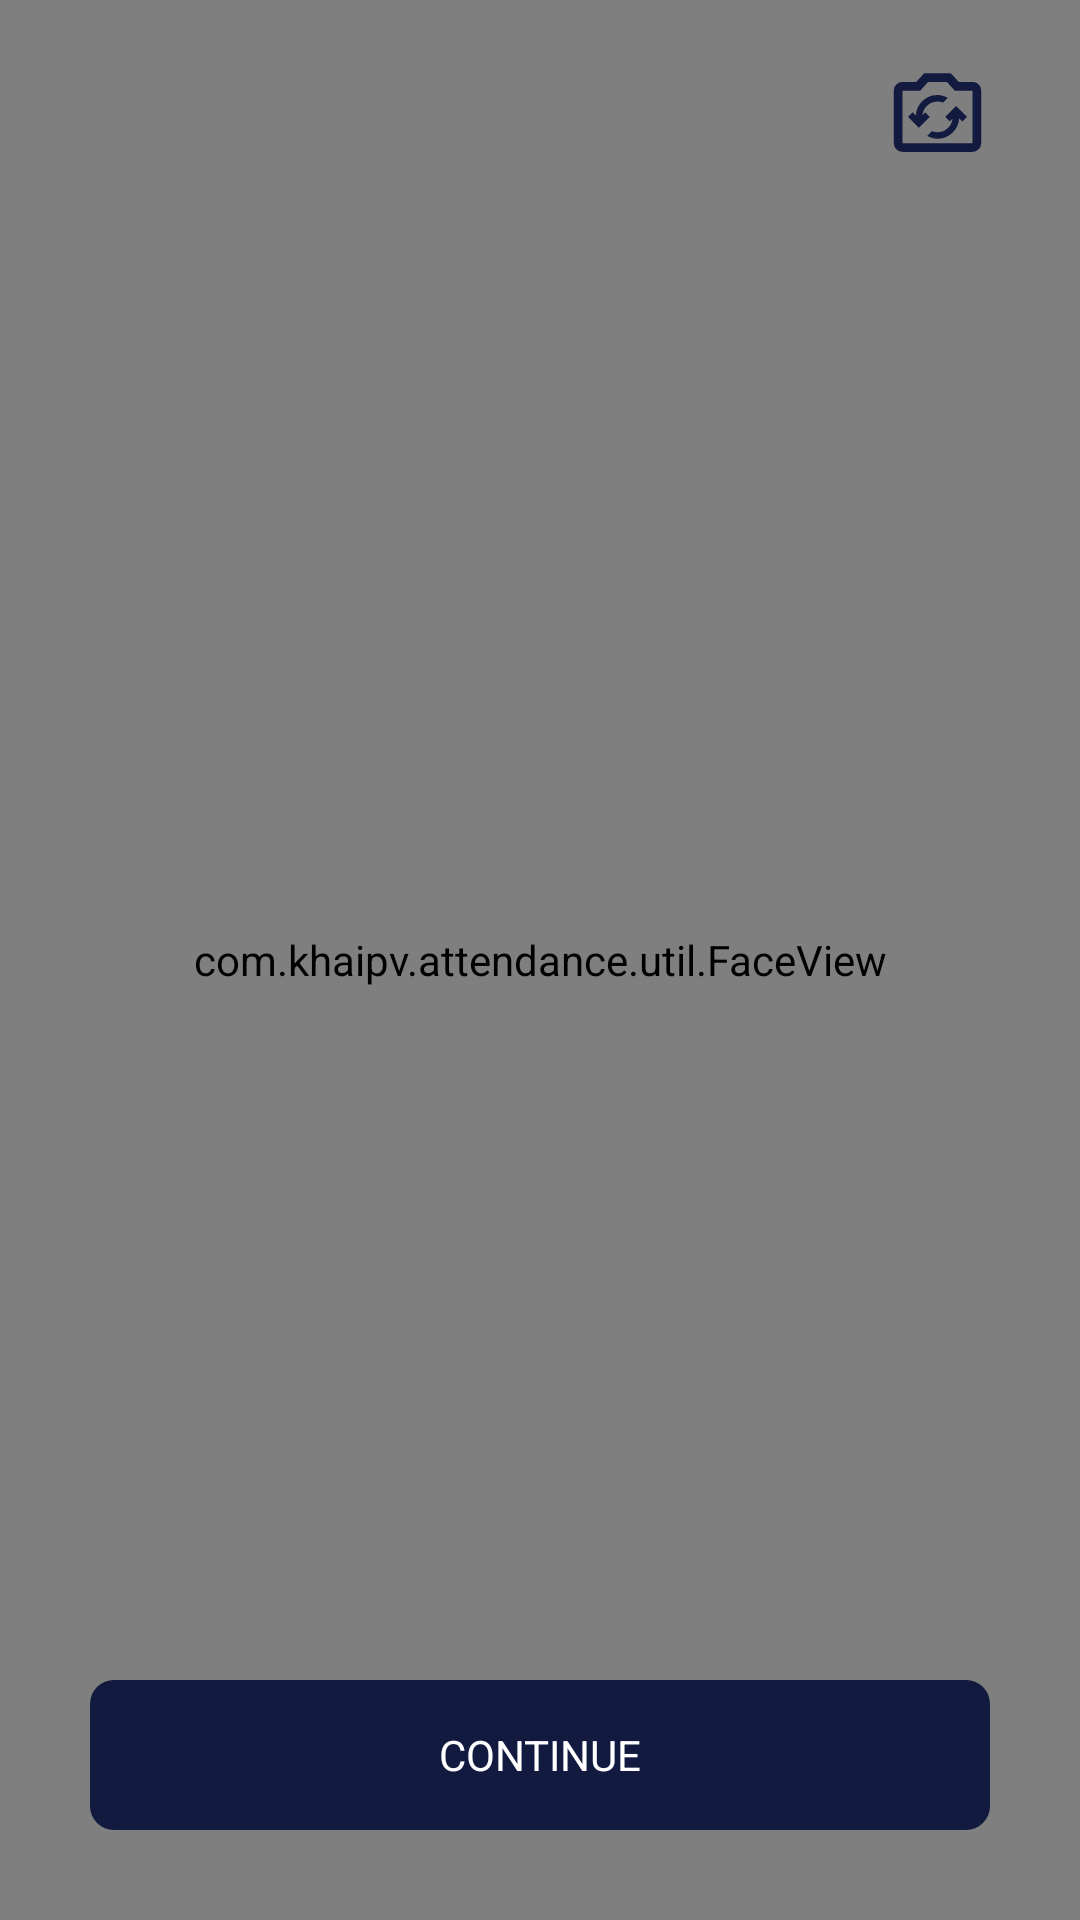

Icons on this 1080×1920 Android screen, each with its box as (x1, y1, x2, y2):
flip: (893, 73, 982, 152)
